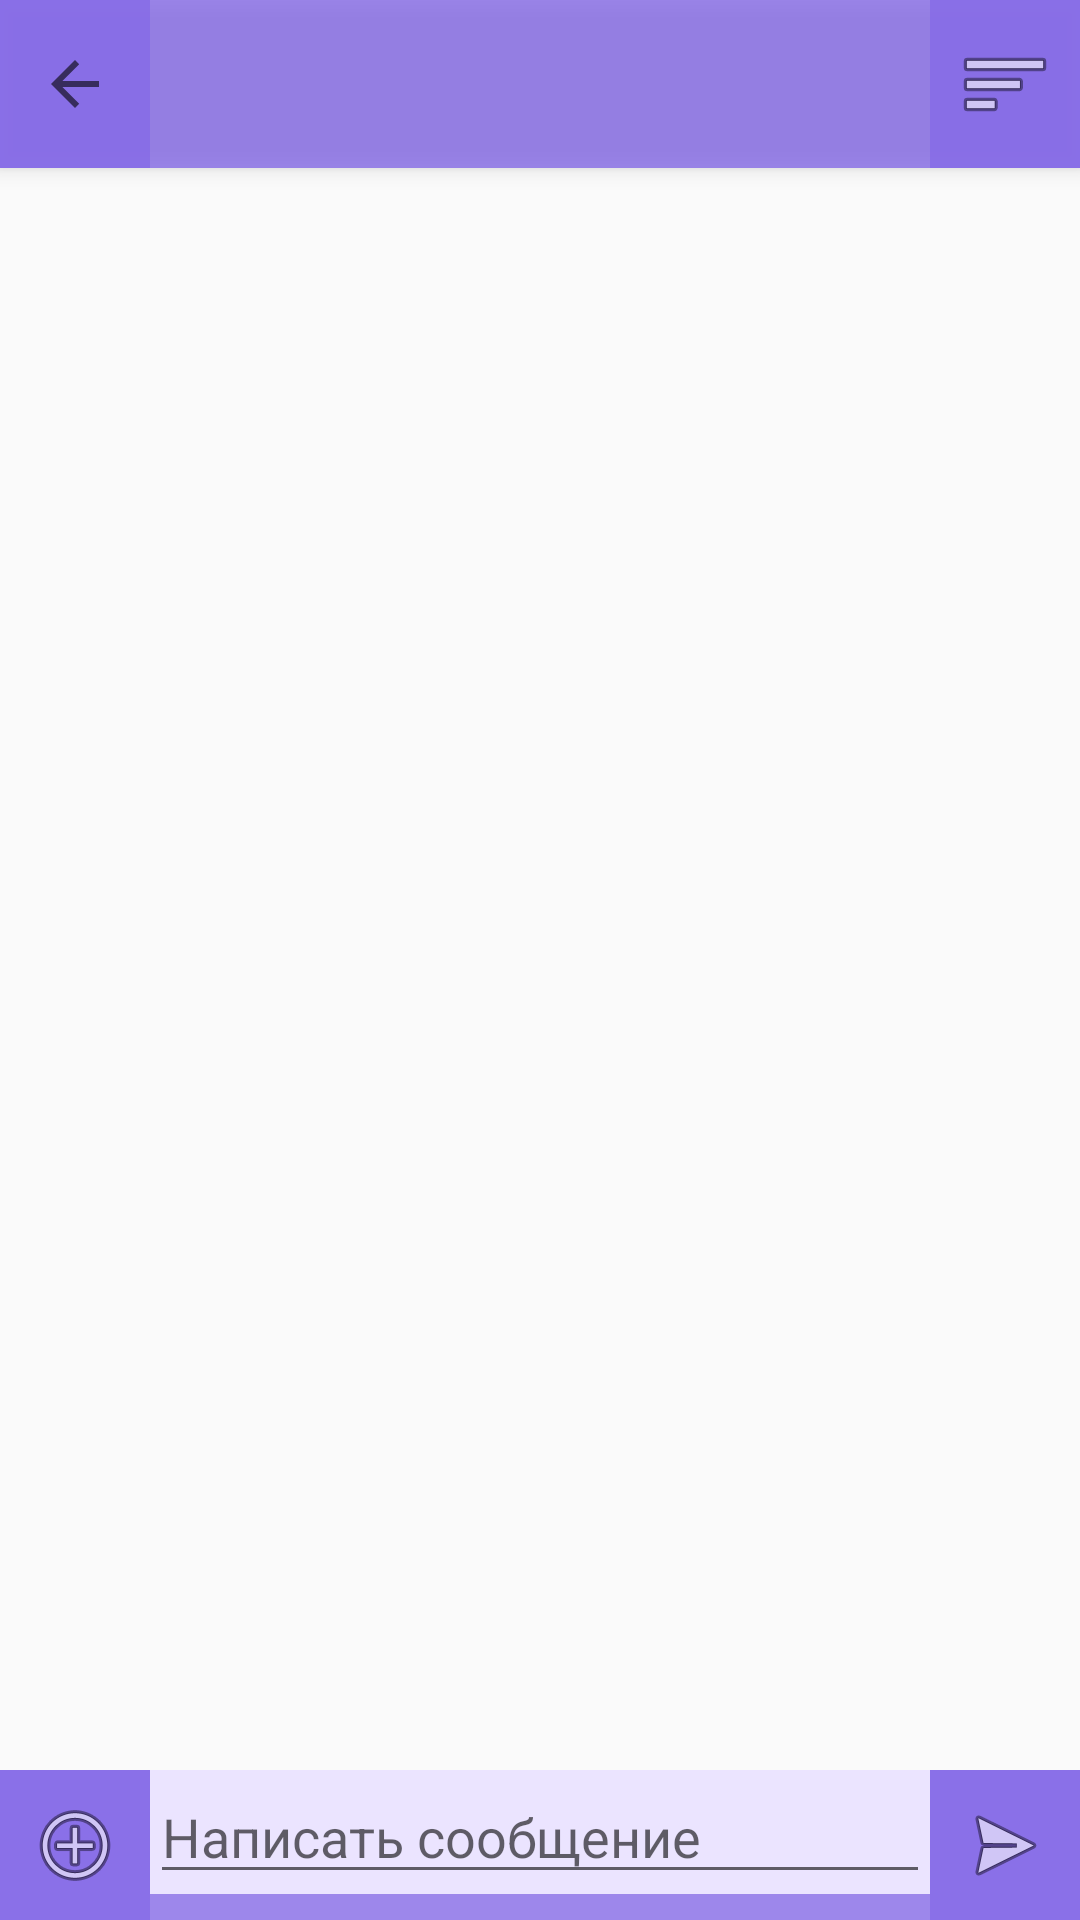

Where to tap for icons on this 1080px x 1920px app screen, as (x,y):
add: (75,1845)
send: (1005,1845)
sort by size: (1005,84)
